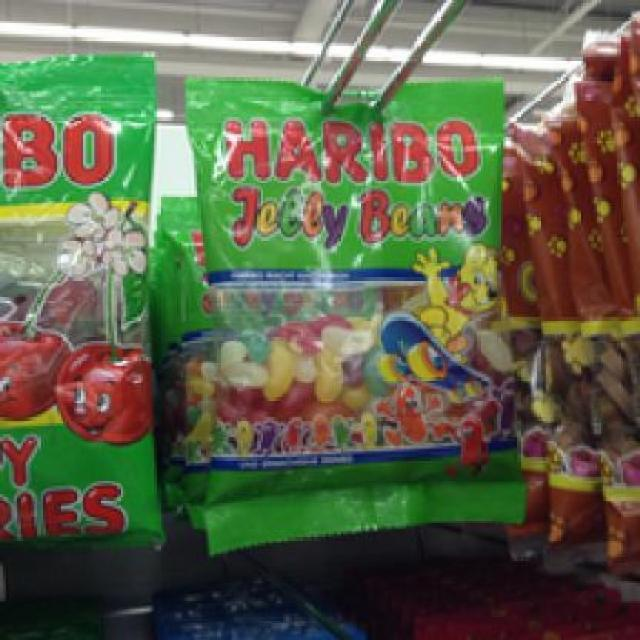Candy: (186, 72, 523, 534), (0, 40, 157, 537)
